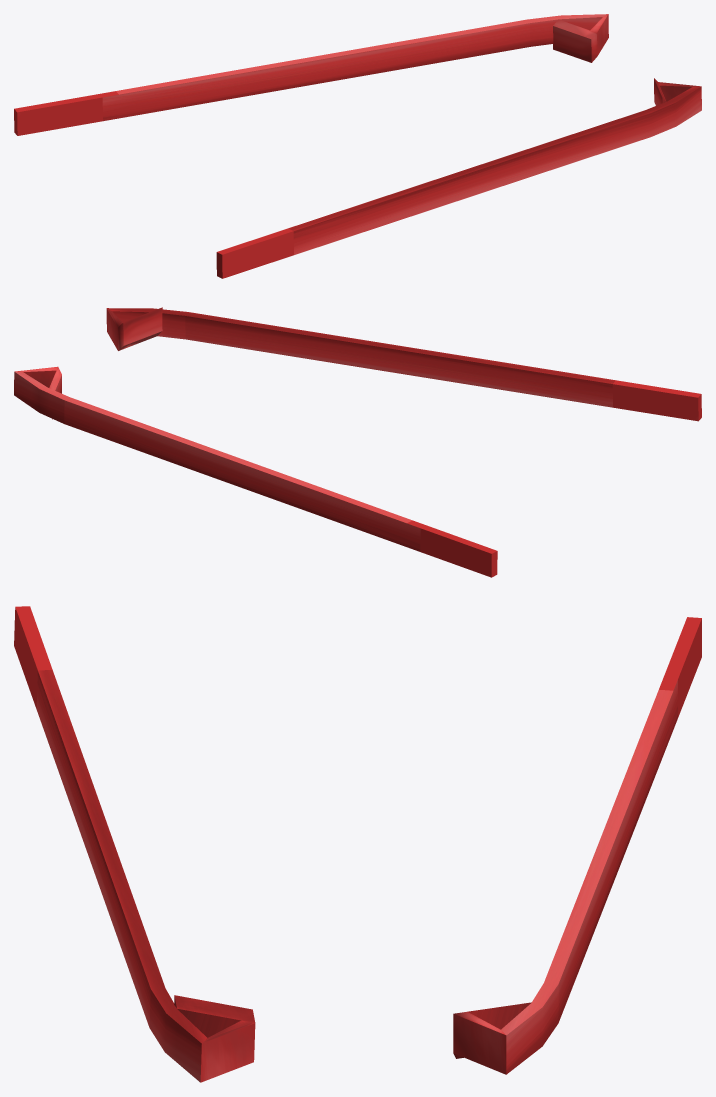
The model's file is band.obj.
3 views of the same model, one above another, from view 1: azimuth 30°, elevation 25°; view 2: azimuth 150°, elevation 25°; view 3: azimuth 270°, elevation 25° (orthographic). The views are drawn at different scales.
Parts seen in each view (by area): view 1: band_links, band_rechts; view 2: band_rechts, band_links; view 3: band_rechts, band_links.
Part boxes in pixels (x1,y1,x2,y2): band_links: (14,14,608,135); band_rechts: (216,78,701,278); band_rechts: (106,307,701,421); band_links: (14,366,497,577); band_rechts: (14,606,255,1082); band_links: (453,617,701,1074).
Bounding box in the file's own units: 7.54 × 0.4427 × 5.08.
Materials: 1 (1 with a texture image).
